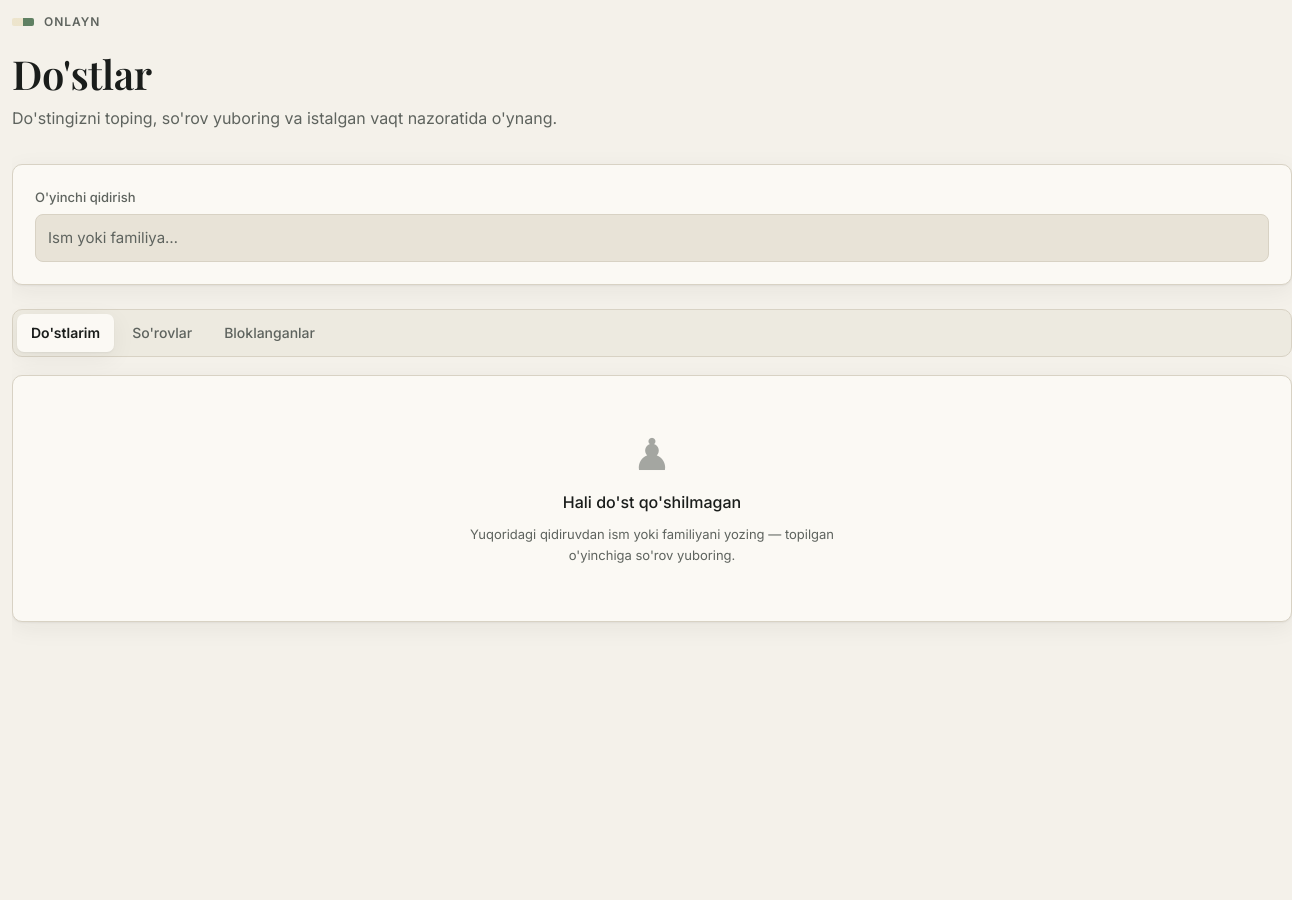
Test: do`stlar sahifasi › qidiruv › bitta harfda so`rov YUBORILMAYDI
expect the text "Hali do'st qo'shilmagan" is shown: met, box top-left (563, 492), bottom-right (741, 512)
Type "S" into the search field at (652, 238), box top-left (35, 214), bottom-right (1269, 262)
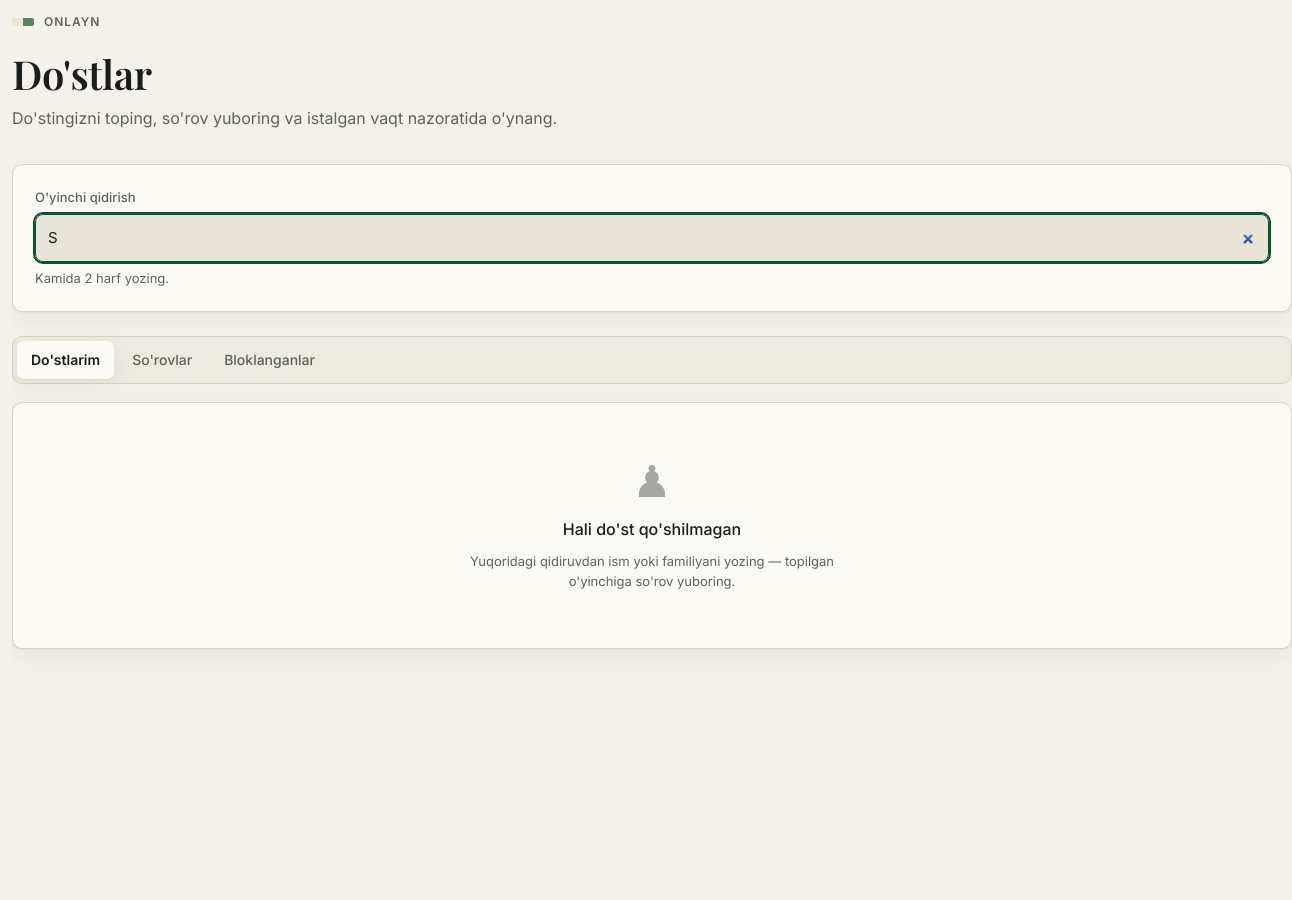
expect the text "Kamida 2 harf yozing." is shown: met, box top-left (35, 270), bottom-right (169, 286)
